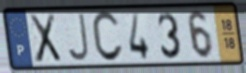3: (156, 11, 182, 61)
4: (127, 11, 153, 62)
6: (187, 9, 215, 61)
C: (90, 9, 125, 65)
J: (66, 12, 91, 64)
X: (27, 12, 63, 65)
